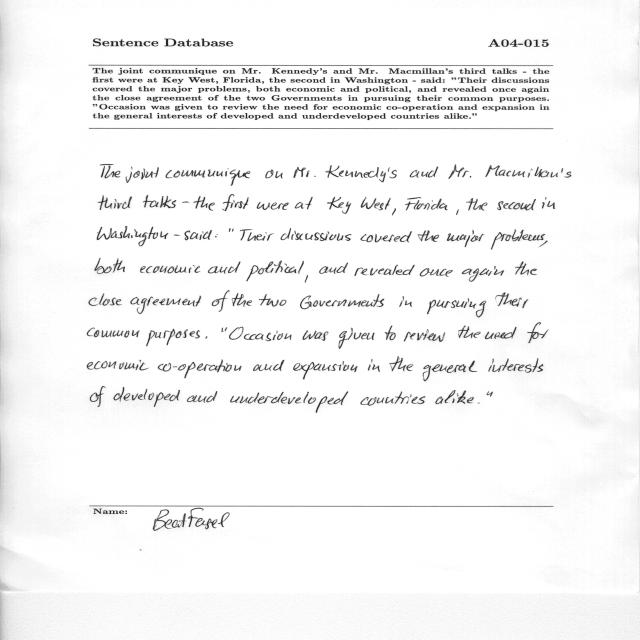word: (230, 391, 348, 413), (158, 360, 242, 379), (166, 168, 250, 186), (98, 227, 169, 247), (114, 387, 180, 407), (130, 296, 201, 314), (300, 294, 384, 309), (325, 165, 397, 182), (246, 261, 304, 282), (427, 298, 486, 318), (293, 361, 358, 379), (423, 361, 477, 382), (486, 165, 572, 178), (491, 230, 545, 250), (361, 391, 426, 406), (146, 329, 200, 346), (281, 228, 351, 241), (229, 327, 291, 341), (489, 358, 544, 373), (339, 328, 375, 349), (355, 264, 415, 276), (462, 266, 504, 282), (447, 230, 484, 247), (88, 360, 149, 370), (360, 232, 412, 243), (405, 198, 448, 211), (435, 390, 474, 404), (495, 293, 529, 309), (404, 329, 445, 342), (126, 167, 159, 183), (88, 328, 140, 338), (98, 195, 132, 210), (95, 258, 125, 274), (140, 265, 200, 273), (222, 194, 249, 211), (527, 323, 549, 343), (143, 195, 176, 208), (497, 199, 536, 210), (89, 293, 122, 306), (327, 197, 351, 214), (240, 229, 274, 241), (208, 262, 241, 274), (212, 290, 230, 312), (361, 197, 391, 210), (485, 327, 517, 339), (389, 357, 413, 372), (187, 391, 217, 403), (449, 164, 472, 179), (253, 360, 284, 371), (193, 196, 215, 211), (259, 294, 286, 306), (319, 263, 348, 274), (91, 386, 106, 407), (410, 167, 438, 178), (515, 261, 537, 275), (419, 268, 453, 277), (303, 330, 329, 341), (459, 326, 481, 339), (100, 165, 120, 179), (232, 293, 252, 307), (467, 198, 488, 211), (185, 230, 212, 240), (257, 202, 289, 210), (418, 230, 439, 242), (294, 167, 316, 178), (295, 197, 313, 209), (265, 170, 283, 179), (542, 197, 555, 209), (368, 359, 380, 372), (385, 326, 396, 340), (399, 296, 412, 307), (539, 240, 548, 247), (487, 391, 493, 397), (392, 209, 396, 216), (305, 275, 308, 283), (229, 228, 234, 232), (222, 328, 227, 332), (456, 209, 459, 215), (182, 201, 189, 203), (215, 234, 218, 237), (174, 235, 180, 236), (206, 336, 208, 339), (478, 403, 480, 404)
